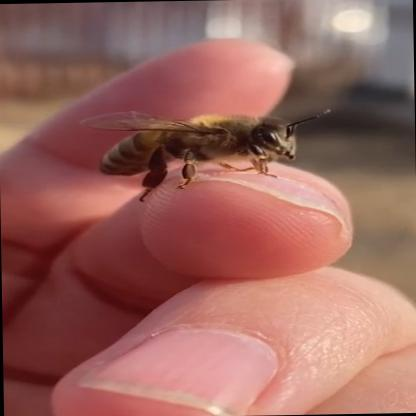bee: (67, 81, 358, 200)
